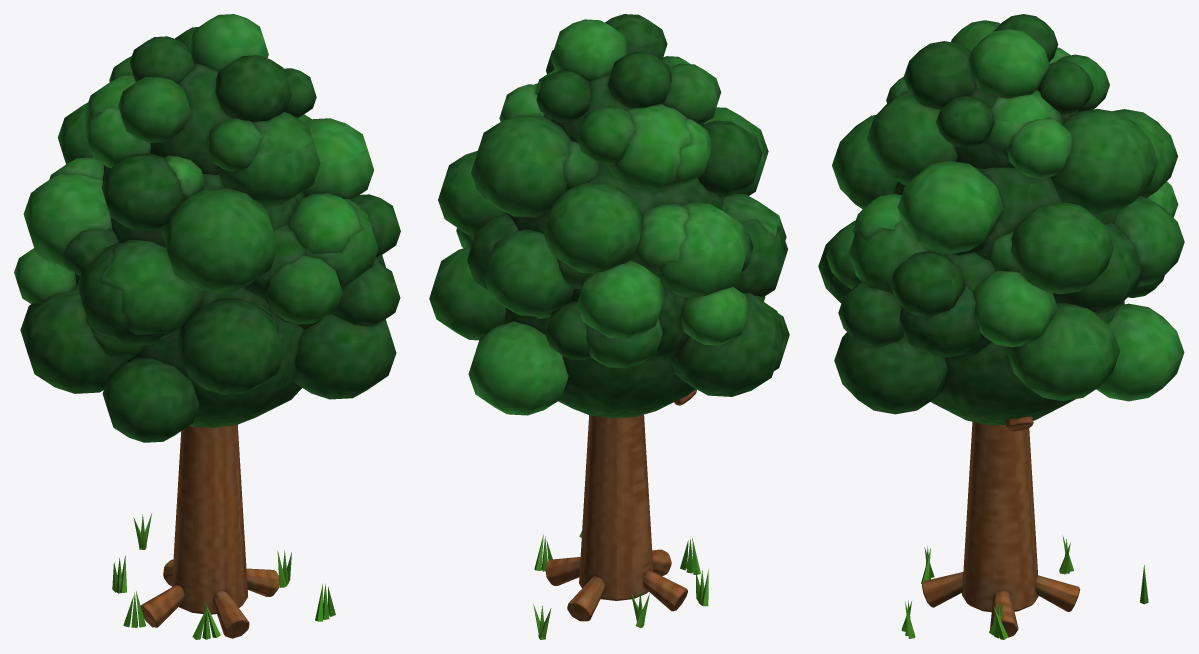
Rendered from cocoa_tree.glb.
3 views of the same model, side by side, from view 1: azimuth 30°, elevation 25°; view 2: azimuth 150°, elevation 25°; view 3: azimuth 270°, elevation 25° (orthographic). The views are drawn at different scales.
Parts seen in each view (by area): view 1: crown, cocoa_tree; view 2: crown, cocoa_tree; view 3: crown, cocoa_tree.
Part boxes in pixels (box(x1,y1,x2,y2)): crown: box(14, 14, 400, 442); cocoa_tree: box(112, 424, 335, 639); crown: box(429, 14, 789, 418); cocoa_tree: box(533, 389, 708, 639); crown: box(818, 14, 1184, 424); cocoa_tree: box(901, 416, 1148, 639).
Size of the model in its own units: 0.8855 by 1.5 by 0.8488.
1 material, 1 textured.
